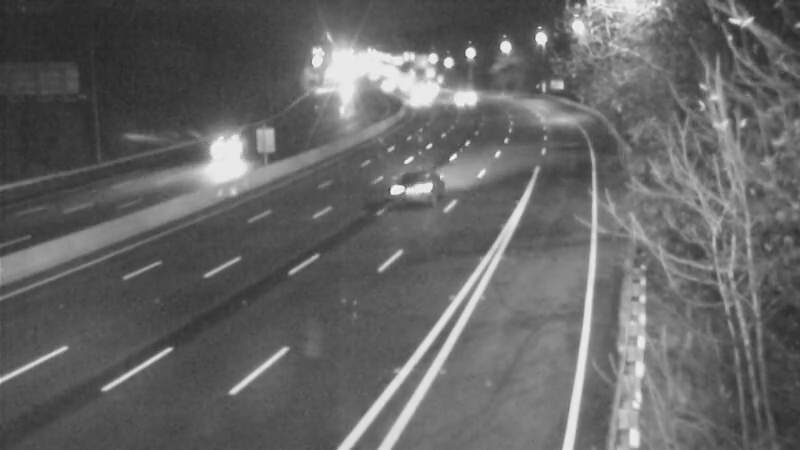vehicle: (369, 153, 449, 233), (184, 112, 264, 192), (441, 76, 491, 126)
